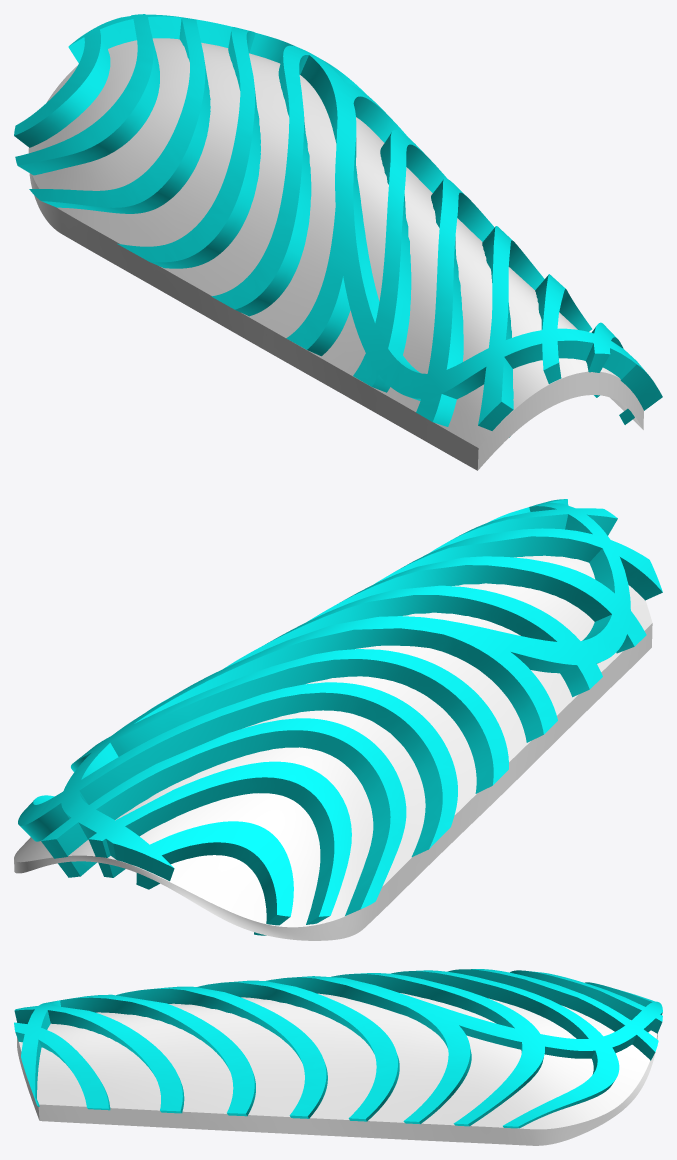
File: tidal-form-full.glb
The picture shows the model from 3 angles, top to bottom: view 1: azimuth 30°, elevation 25°; view 2: azimuth 150°, elevation 25°; view 3: azimuth 270°, elevation 25°; orthographic projection. The views are drawn at different scales.
Size of the model in its own units: 0.015 by 0.00678 by 0.0354.
